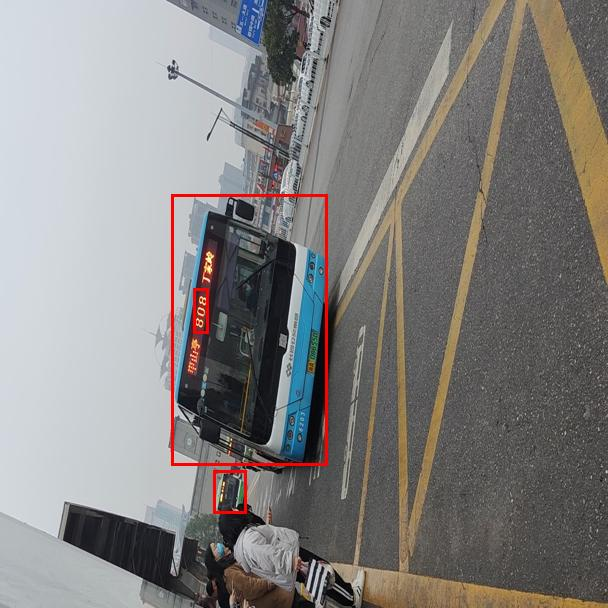bus: (171, 194, 327, 465), (213, 470, 246, 513)
screen: (193, 288, 208, 333)
